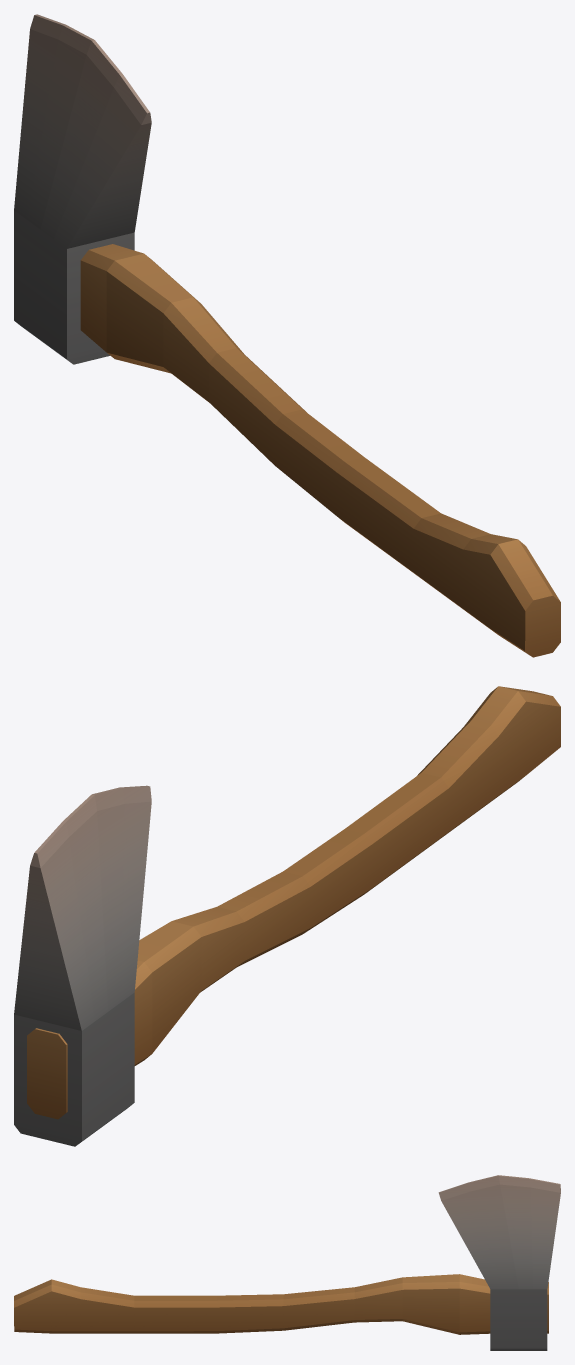
Rendered from axe.fbx.
3 renders of one model, top to bottom at view 1: azimuth 30°, elevation 25°; view 2: azimuth 150°, elevation 25°; view 3: azimuth 270°, elevation 25°, orthographic. The views are drawn at different scales.
Visible parts, largest first — view 1: Handle_Tools_Mat_0; view 2: Handle_Tools_Mat_0; view 3: Handle_Tools_Mat_0.
Boxes of the visible parts, x1=… form: Handle_Tools_Mat_0: x1=14, y1=14, x2=560, y2=657; Handle_Tools_Mat_0: x1=14, y1=686, x2=560, y2=1146; Handle_Tools_Mat_0: x1=14, y1=1175, x2=560, y2=1350.
Size of the model in its own units: 245 by 1076 by 3173.
1 material, 1 textured.
